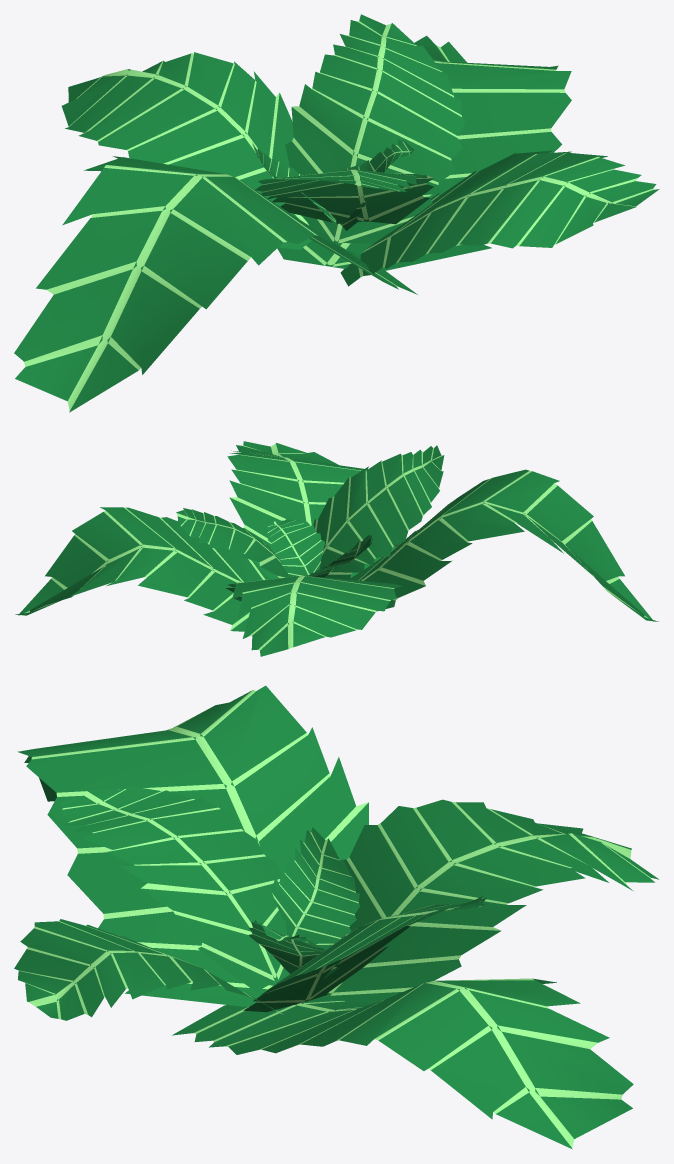
Rendered from scene_minze.gltf.
3 views of the same model, one above another, from view 1: azimuth 30°, elevation 25°; view 2: azimuth 150°, elevation 25°; view 3: azimuth 270°, elevation 25° (orthographic). The views are drawn at different scales.
Visible parts, largest first — view 1: Cube, Cube.004, Cube.003, Cube.002, Cube.001, Cube.005, Cube.006, Cube.007; view 2: Cube, Cube.001, Cube.005, Cube.003, Cube.002, Cube.004, Cube.006, Cube.007; view 3: Cube, Cube.001, Cube.003, Cube.005, Cube.002, Cube.007, Cube.004, Cube.006.
Boxes of the visible parts, x1,y1,x2,y2 form: Cube: (14,156,417,412); Cube.004: (285,14,465,243); Cube.003: (61,52,311,249); Cube.002: (340,150,659,286); Cube.001: (277,35,571,270); Cube.005: (255,169,434,224); Cube.006: (340,140,414,230); Cube.007: (252,143,336,226); Cube: (350,469,658,621); Cube.001: (15,507,269,631); Cube.005: (313,445,444,579); Cube.003: (225,576,404,656); Cube.002: (227,441,395,579); Cube.004: (176,508,289,578); Cube.006: (267,519,324,576); Cube.007: (308,534,372,577); Cube: (17,685,368,1006); Cube.001: (172,978,633,1149); Cube.003: (327,799,658,1003); Cube.005: (58,786,289,992); Cube.002: (14,919,291,1020); Cube.007: (271,827,360,949); Cube.004: (243,896,486,1012); Cube.006: (249,920,343,979).
Size of the model in its own units: 3.04 by 0.7098 by 2.25.
